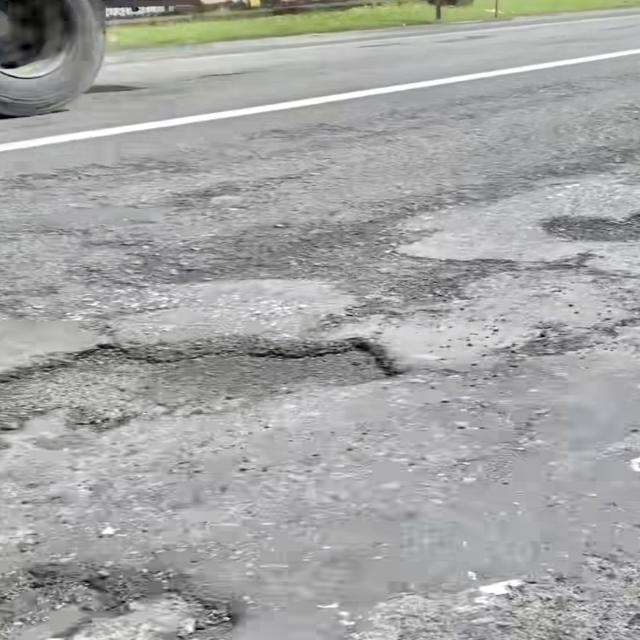pothole: (67, 280, 640, 446)
